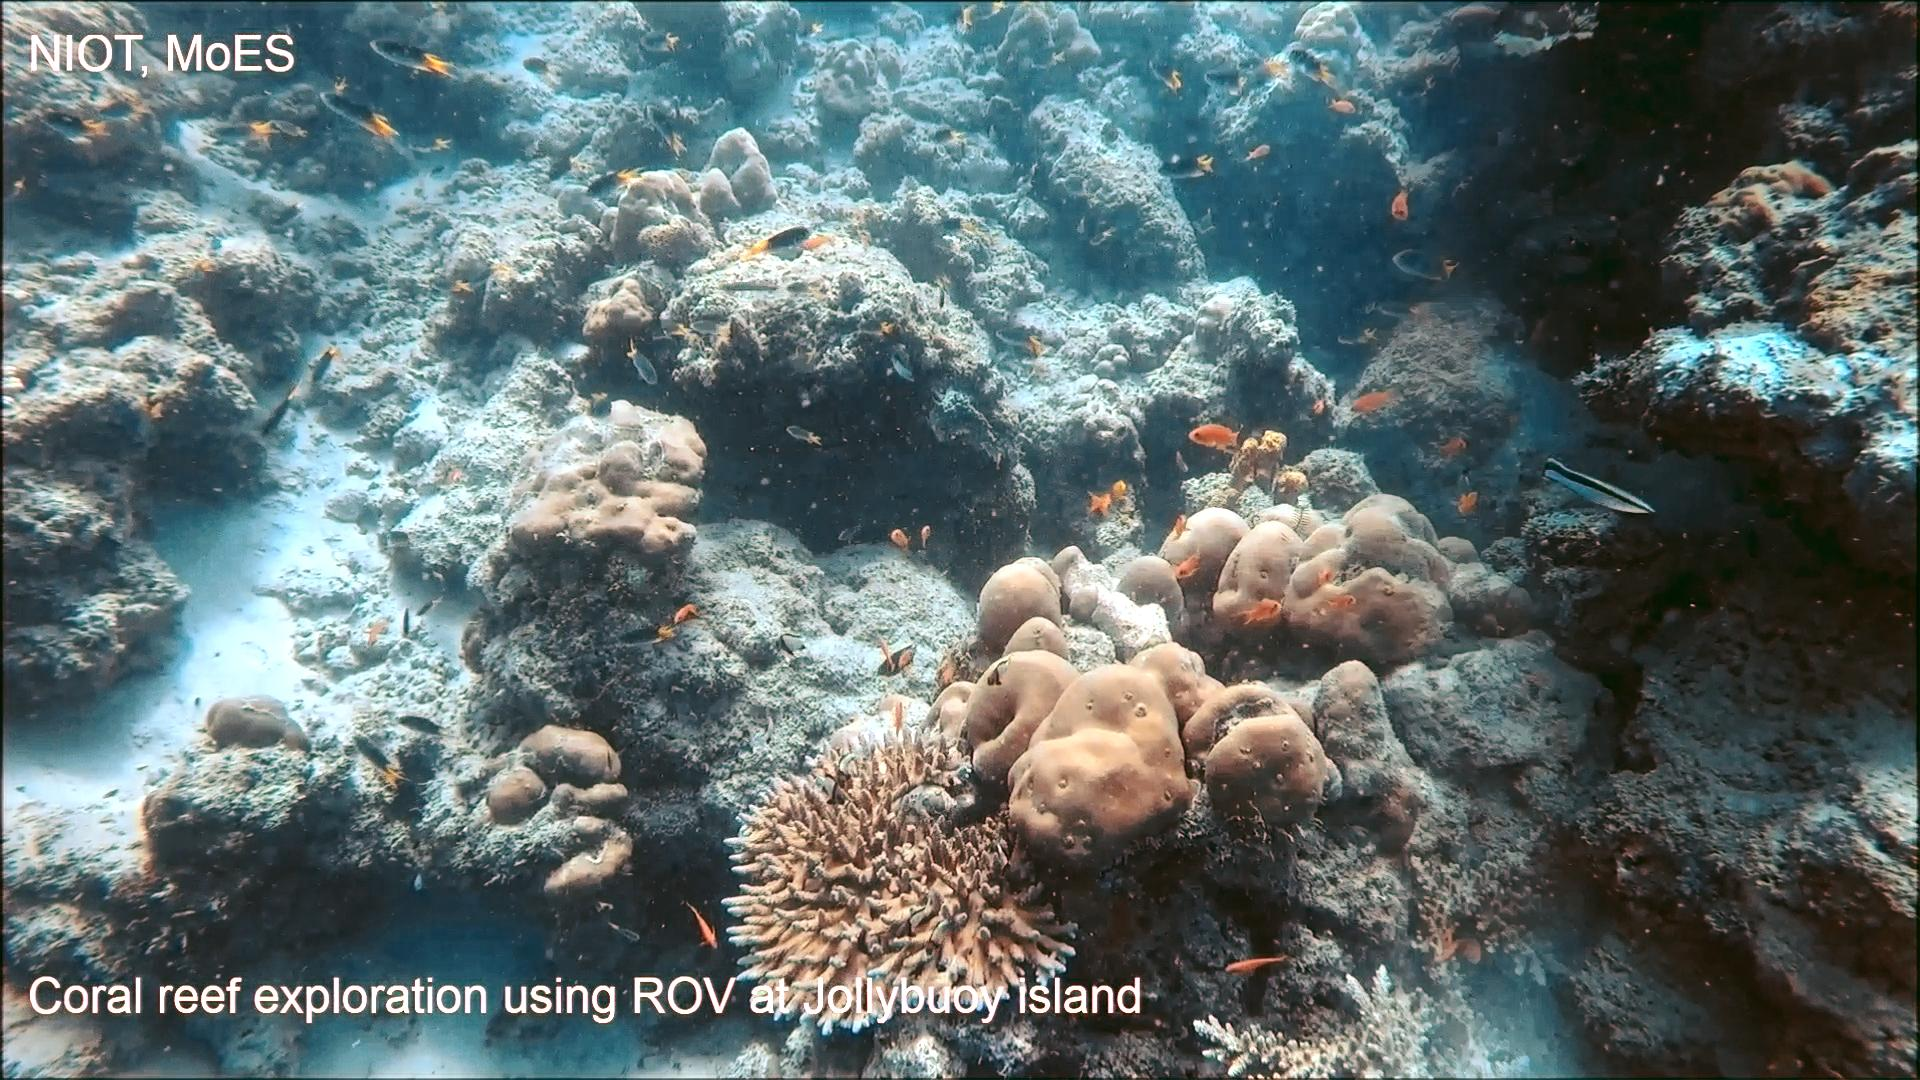Porites-Porites pukoensis: (913, 553, 1340, 874), (1158, 488, 1461, 663)
